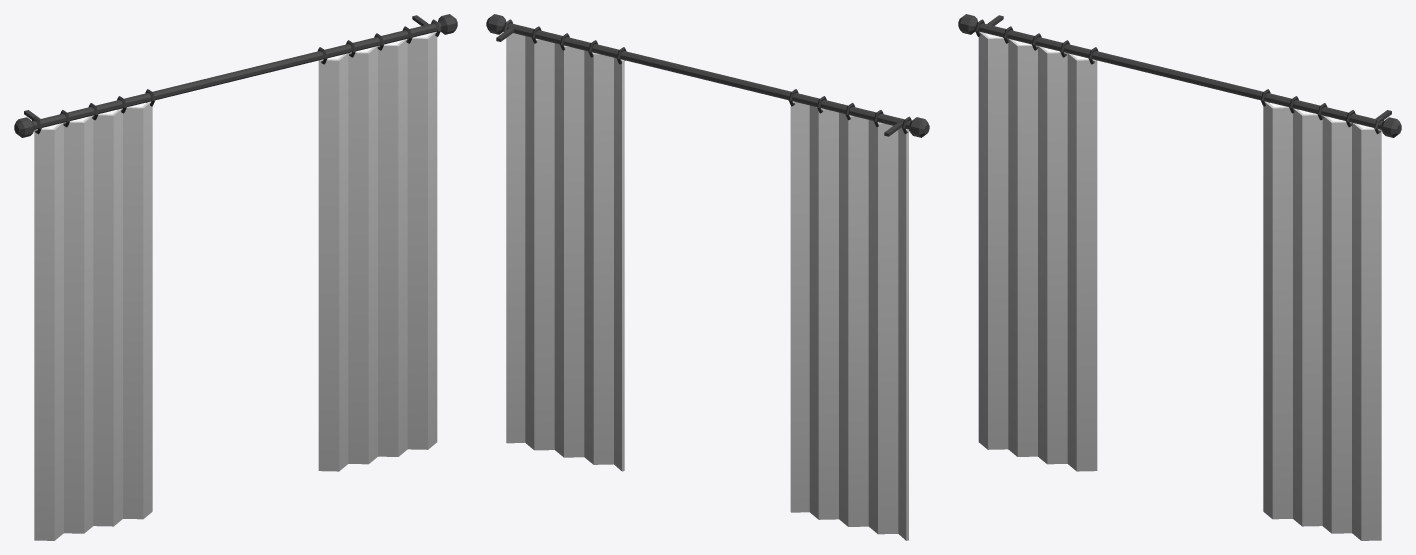
Rendered from Curtains2_C3.fbx.
3 renders of one model, left to right at view 1: azimuth 30°, elevation 25°; view 2: azimuth 150°, elevation 25°; view 3: azimuth 330°, elevation 25°, orthographic.
Parts seen in each view (by area): view 1: Curtains2_C3; view 2: Curtains2_C3; view 3: Curtains2_C3.
Part boxes in pixels (bbox=[...]): Curtains2_C3: bbox=[14, 14, 457, 540]; Curtains2_C3: bbox=[486, 14, 929, 540]; Curtains2_C3: bbox=[958, 14, 1401, 540].
Size of the model in its own units: 162 by 150 by 13.37.
